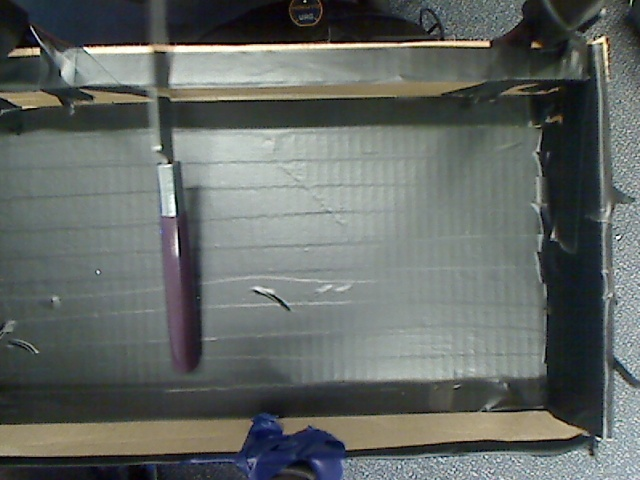knife: (123, 1, 217, 390)
